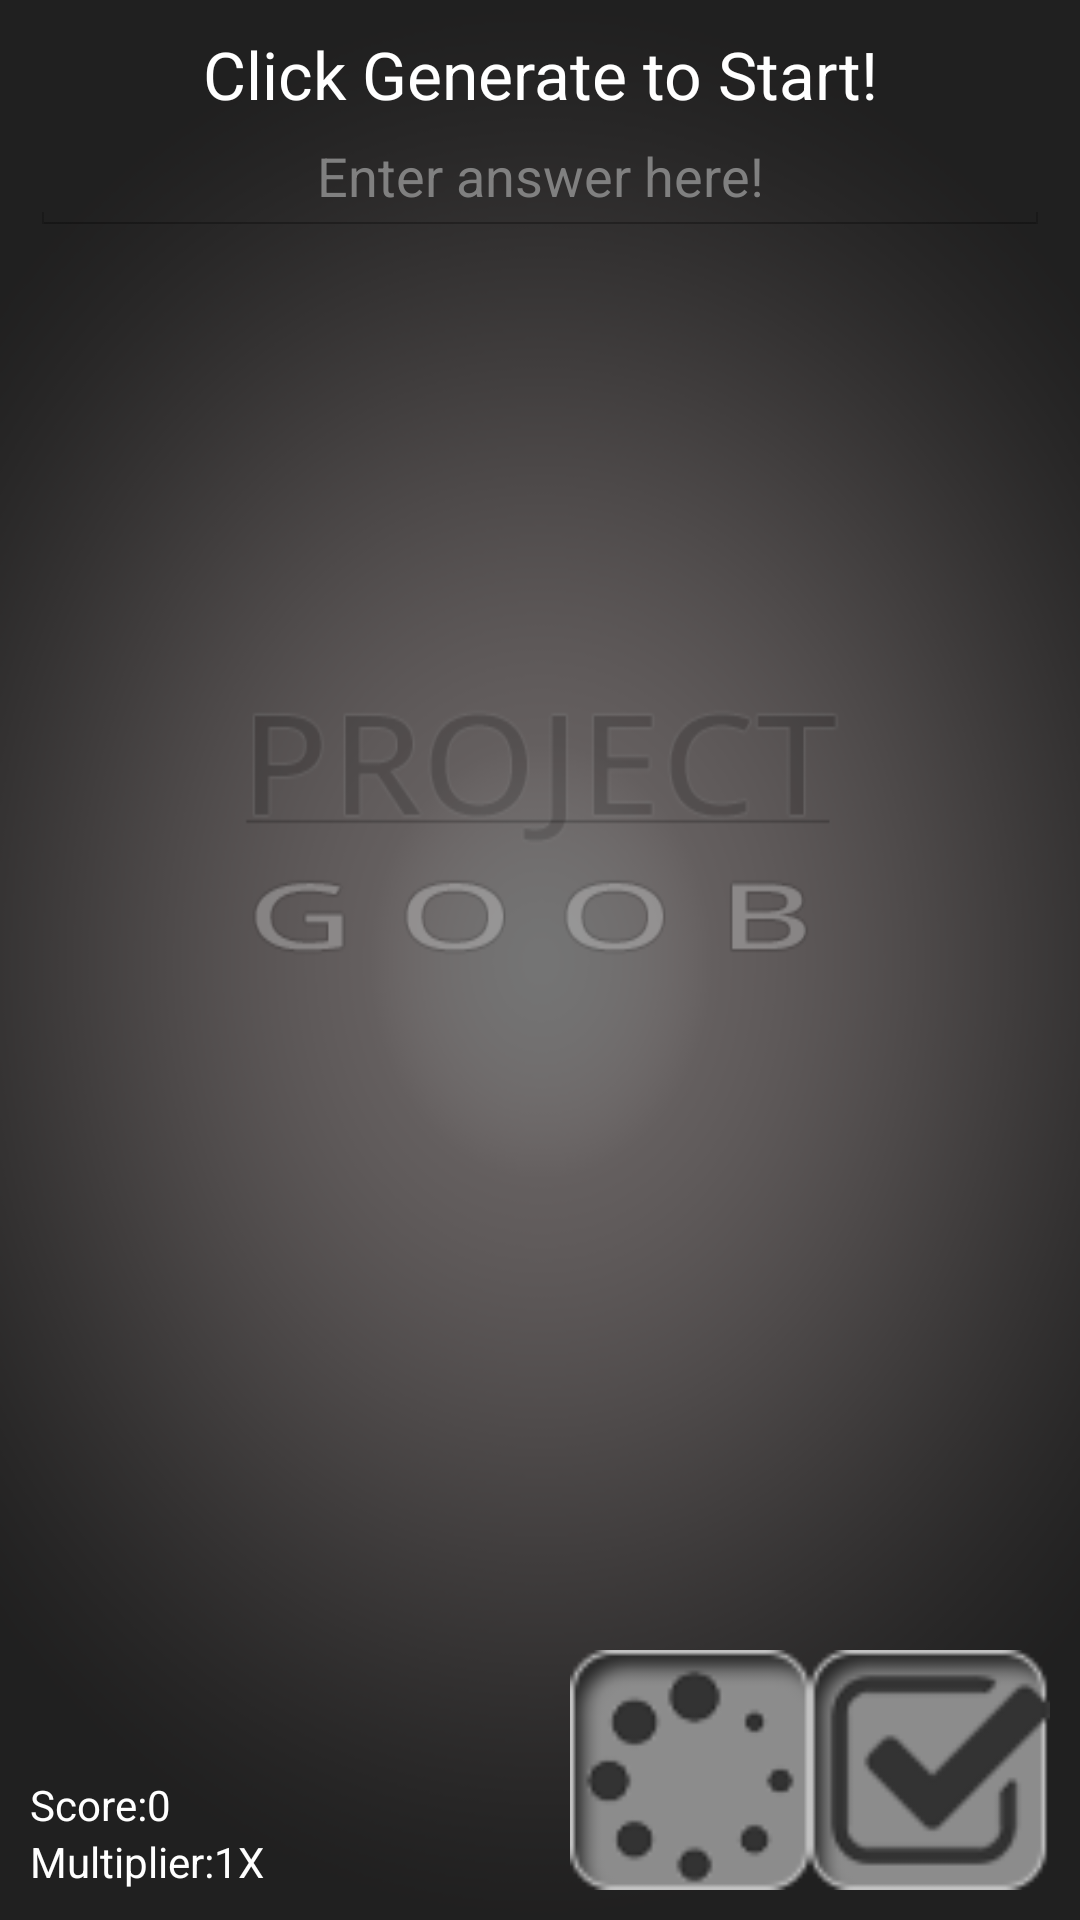

Where icons sit on this 1080×1920 app screen, as (x1, y1, x2, y2):
Answer!: (810, 1650, 1050, 1890)
Generate Problem: (570, 1650, 810, 1890)
